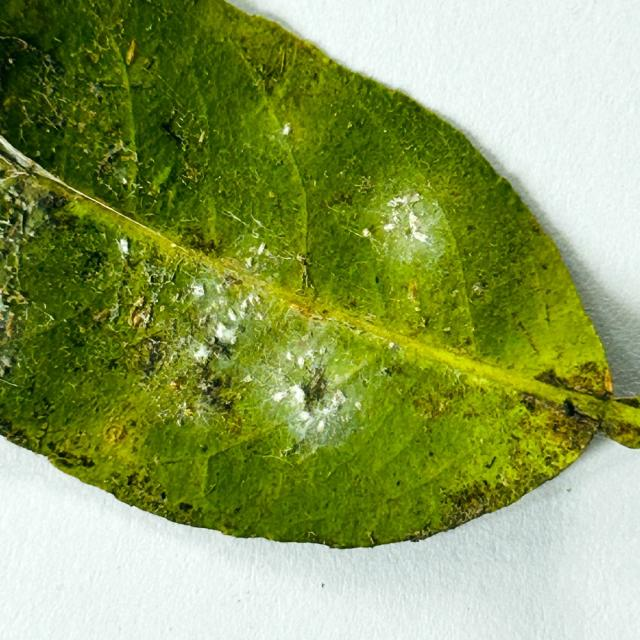Bacterial_Blight: (0, 0, 639, 553), (246, 33, 302, 88), (434, 483, 496, 529), (593, 397, 640, 447), (95, 141, 136, 187), (305, 361, 336, 416), (197, 369, 233, 411), (412, 387, 456, 421), (201, 329, 236, 366), (35, 84, 66, 122), (77, 247, 111, 280), (515, 319, 542, 353), (128, 294, 154, 328), (142, 342, 166, 377), (184, 234, 220, 257), (161, 119, 188, 149), (325, 186, 360, 209), (52, 449, 92, 468), (533, 370, 569, 390), (65, 324, 91, 349), (1, 34, 33, 54), (295, 252, 311, 289), (42, 192, 69, 212), (103, 423, 127, 445), (6, 218, 23, 243), (611, 395, 640, 409), (92, 307, 112, 324), (4, 313, 17, 338), (520, 394, 538, 412), (38, 395, 55, 414), (406, 279, 419, 303), (184, 166, 201, 183), (90, 82, 106, 99), (562, 398, 576, 417), (223, 273, 243, 286), (595, 389, 613, 402), (178, 502, 195, 513), (485, 455, 497, 469), (594, 416, 605, 431), (143, 57, 154, 72), (530, 222, 541, 234), (160, 491, 167, 500), (375, 275, 380, 284)
Lemon: (0, 0, 639, 554)
